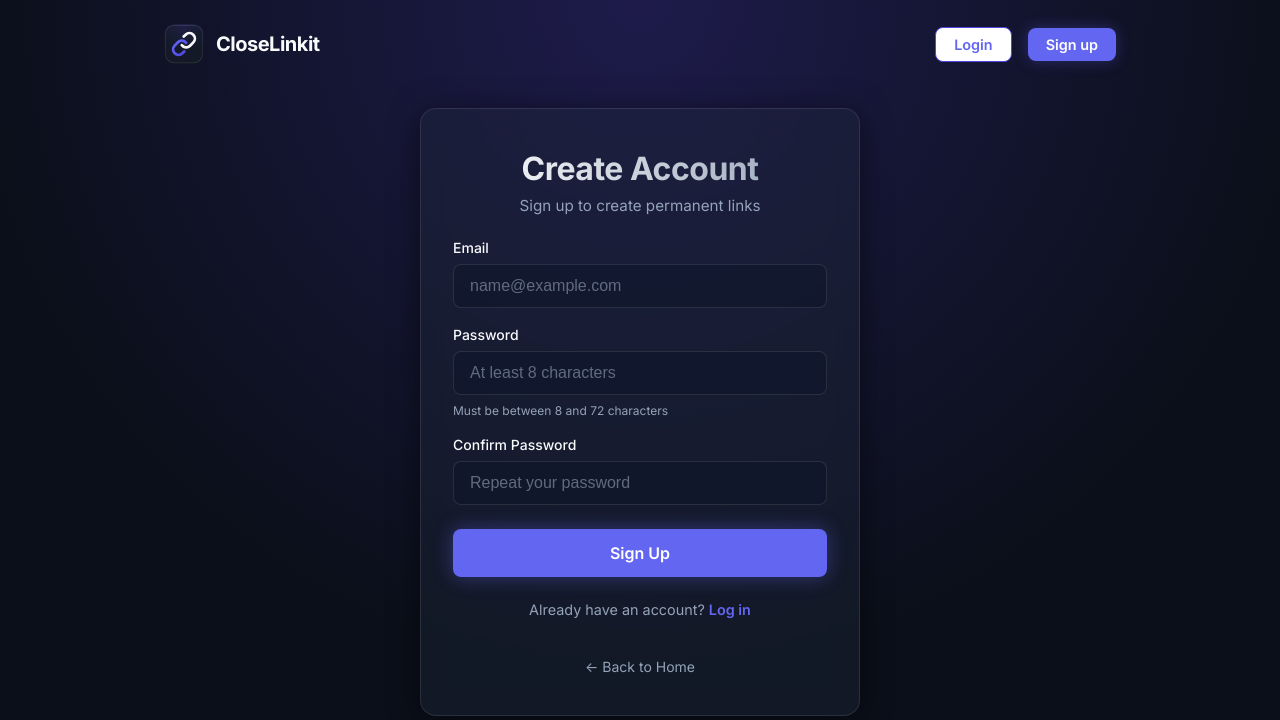
App Component › claims anonymous URLs upon signup and displays claimed URLs in list
Type "signup-claim@example.com" into the field labelled "Email" at (640, 286), box left=453, top=264, right=827, bottom=308
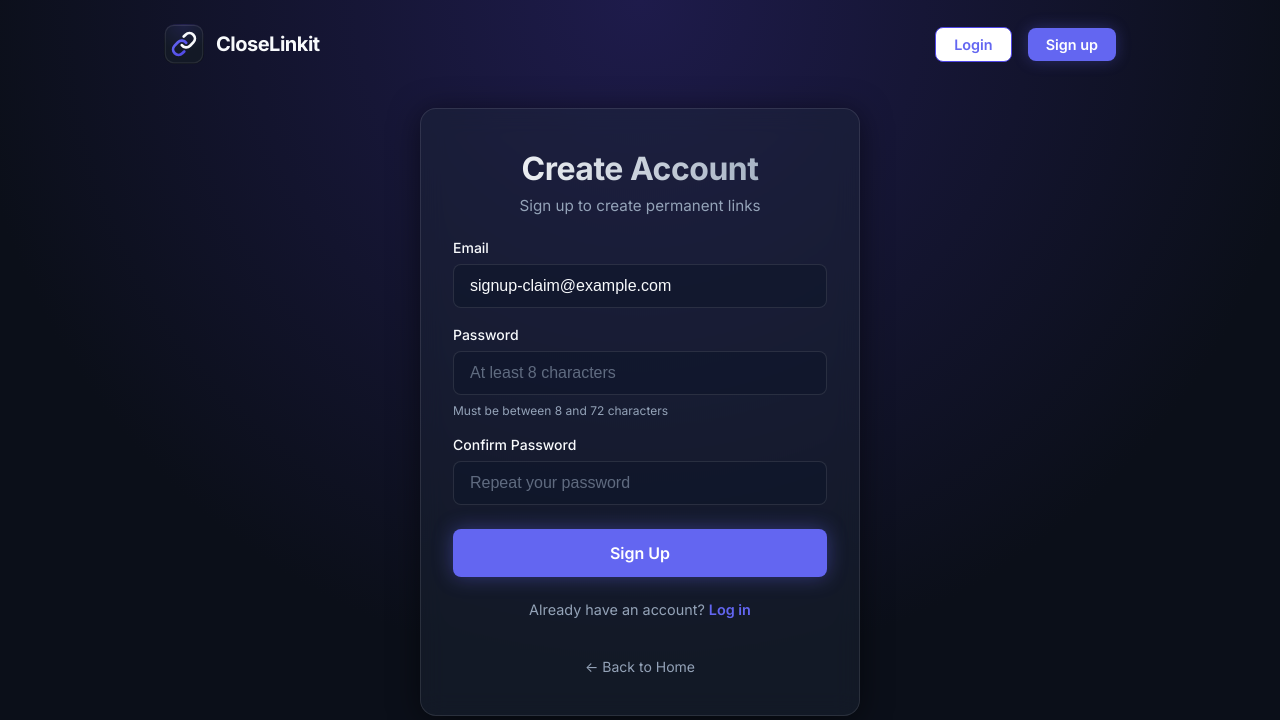
Type "password123" into the password field labelled "Password" at (640, 373), box left=453, top=351, right=827, bottom=395
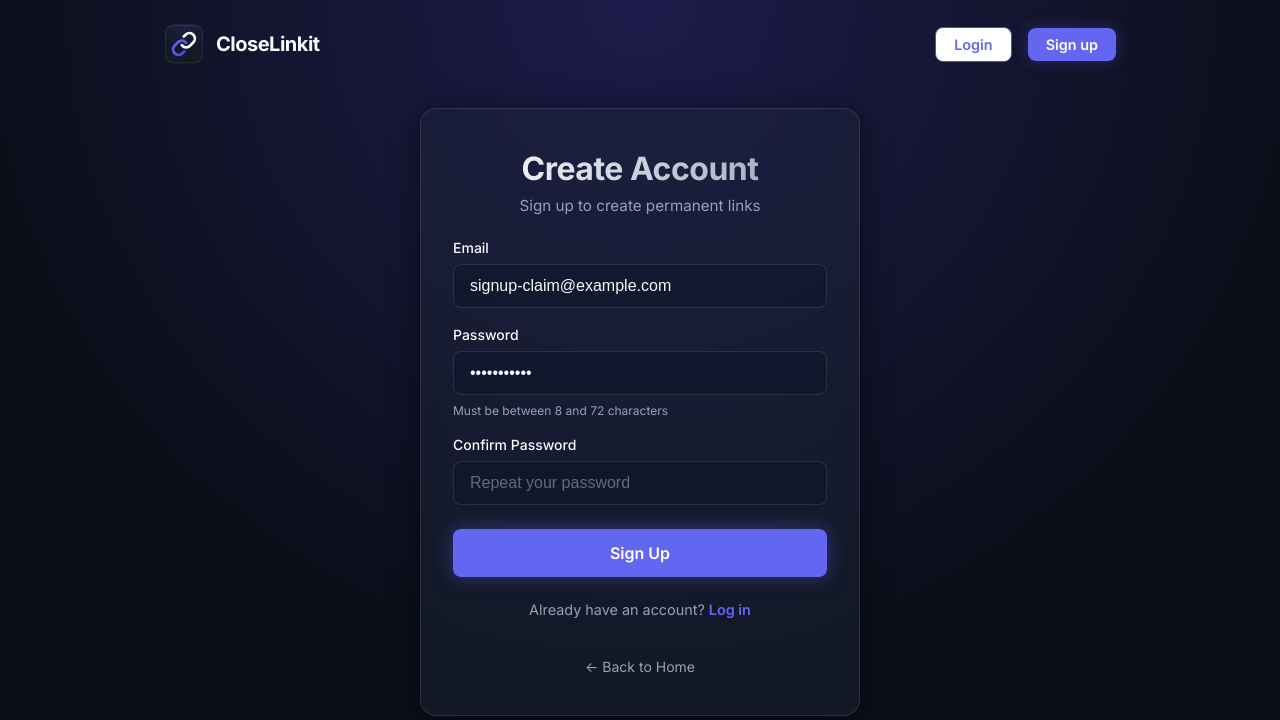
Type "password123" into the password field labelled "Confirm Password" at (640, 483), box left=453, top=461, right=827, bottom=505
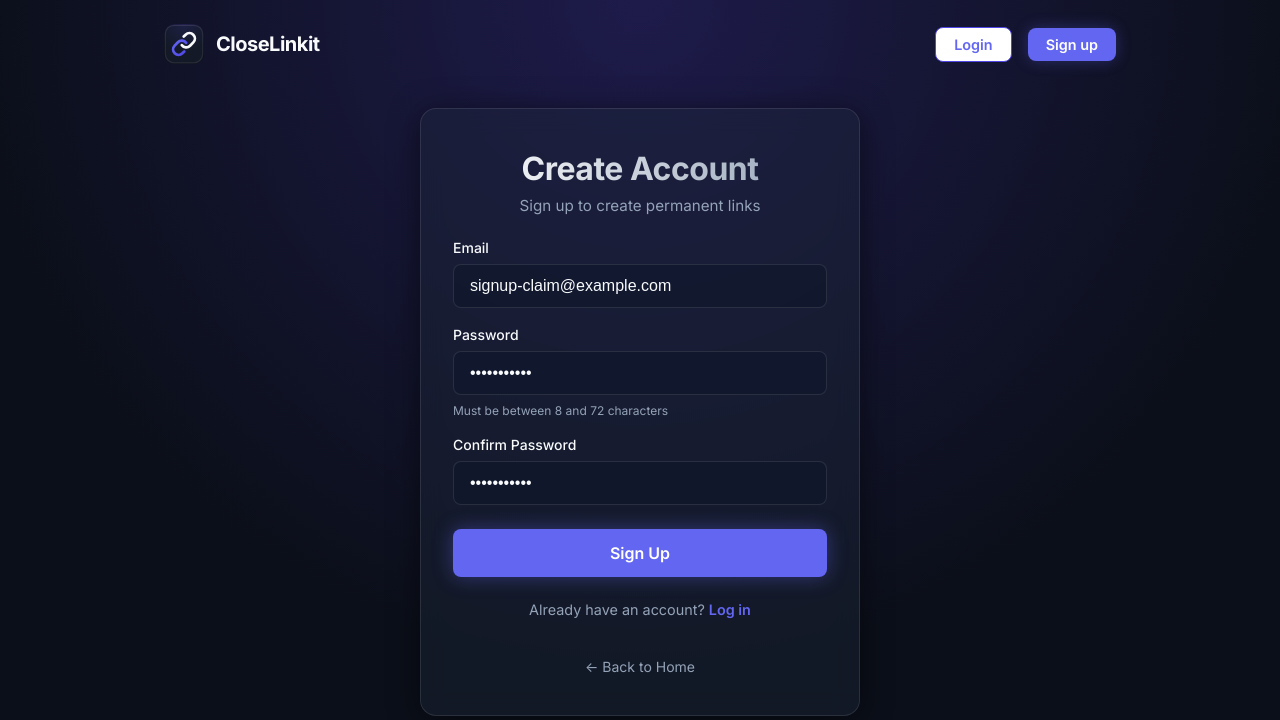
Click the button "Sign Up" at (640, 553), box left=453, top=529, right=827, bottom=577
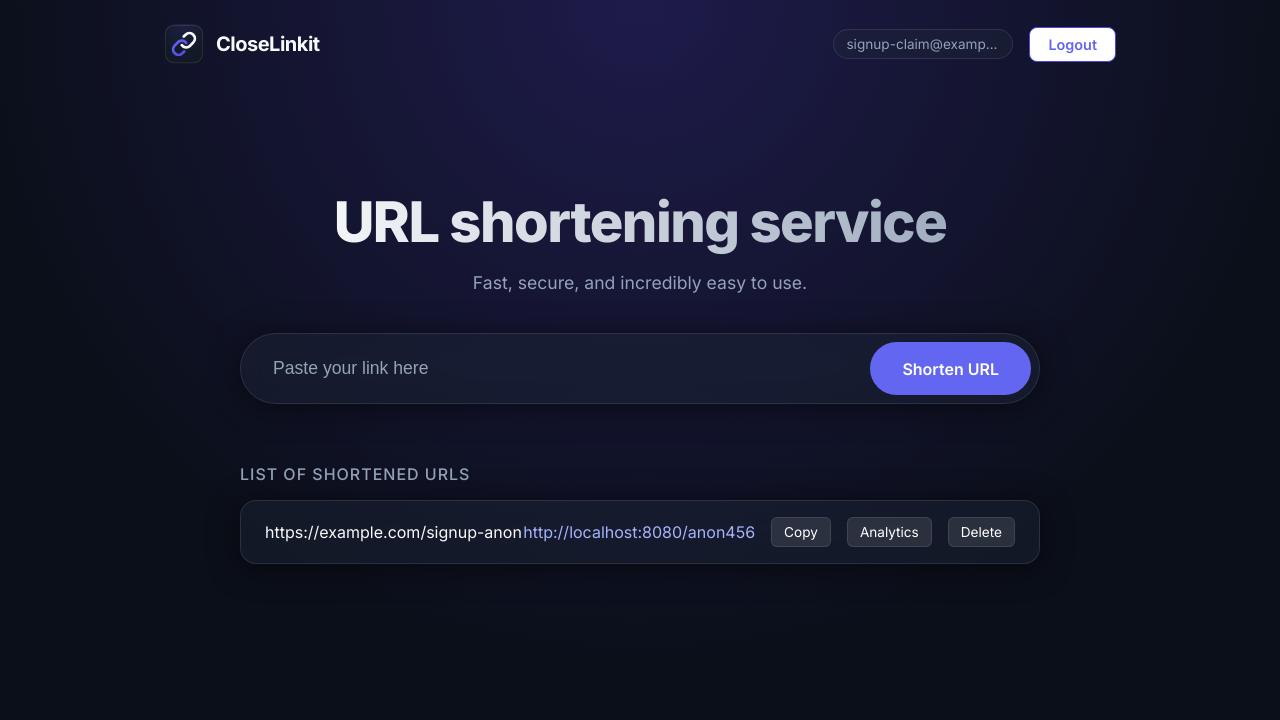
Now the text "https://example.com/signup-anon" is shown, box left=265, top=522, right=522, bottom=542
Now the link "http://localhost:8080/anon456" is shown, box left=523, top=522, right=755, bottom=542
